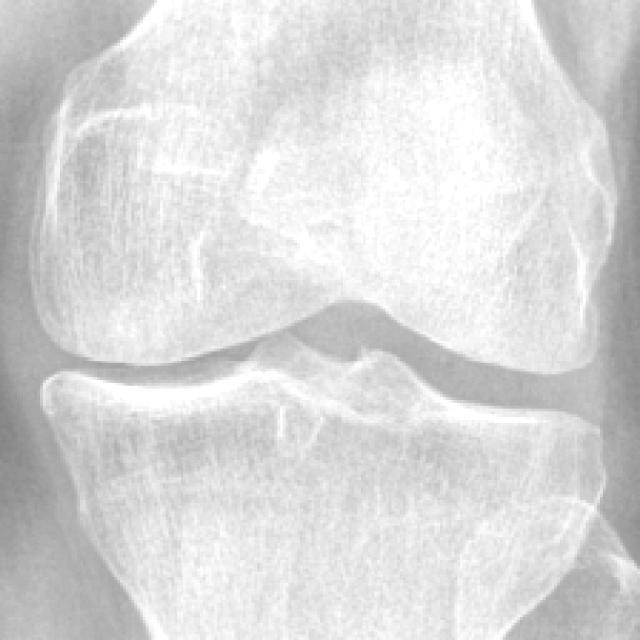femur: (27, 0, 618, 376)
tibia: (46, 340, 600, 637)
